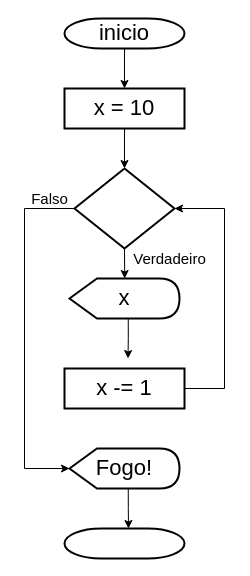
Image size: 250x576. Some labels were removed from this diagram. Each missing label, with the box of its shape:
Fim: (63, 527, 185, 559)
x >= 0: (73, 167, 175, 249)
